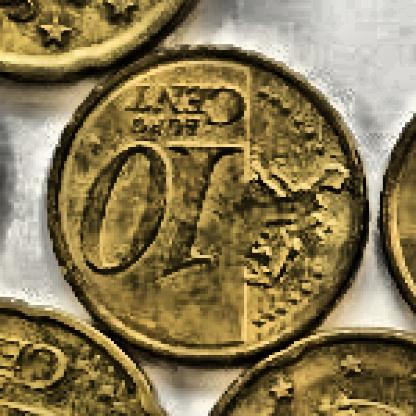coin: (52, 46, 369, 362)
